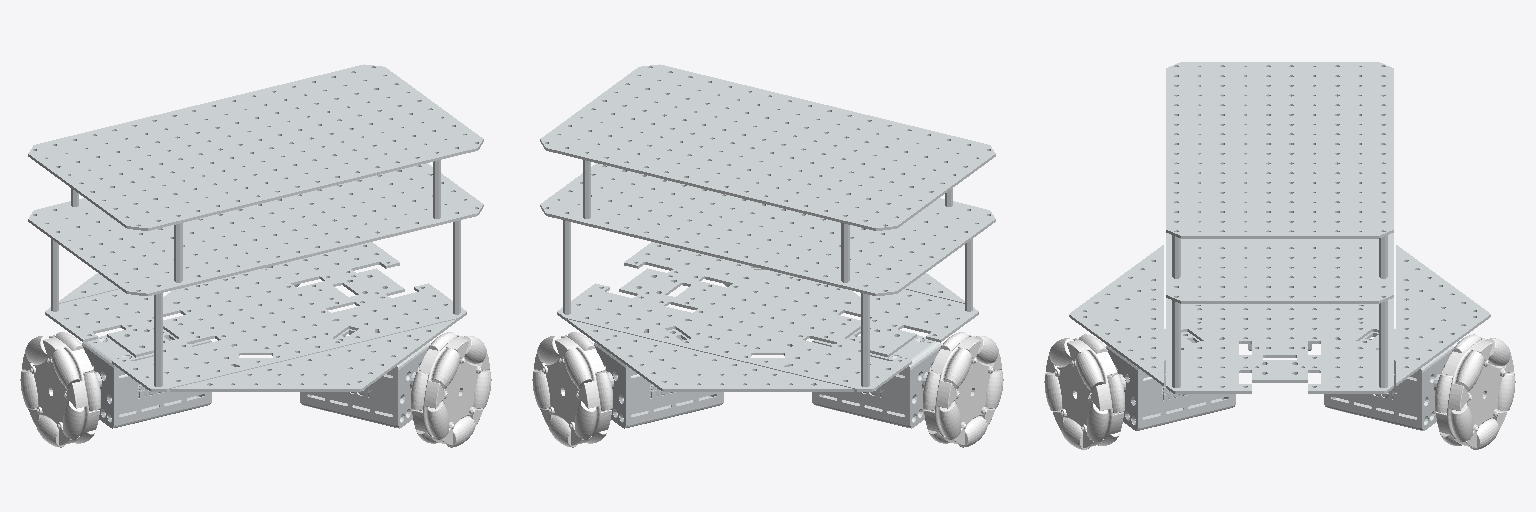
URDF robot description (zoo_three_wheel_omni):
<?xml version="1.0" encoding="utf-8"?>
<!-- This URDF was automatically created by SolidWorks to URDF Exporter! Originally created by [author] ([email redacted]) 
     Commit Version: 1.6.0-4-g7f85cfe  Build Version: 1.6.7995.38578
     For more information, please see http://wiki.ros.org/sw_urdf_exporter -->
<robot
  name="zoo_three_wheel_omni">
  <!-- <link name="dummy">

  </link>
  <joint name="dummy_joint" type="fixed">
     <parent link="dummy"/>
     <child link="base_link"/>
   </joint> -->
  <link
    name="base_link">
    <inertial>
      <origin
        xyz="-7.769E-05 -2.2214E-11 0.016319"
        rpy="0 0 0" />
      <mass
        value="1.8046" />
      <inertia
        ixx="0.010861"
        ixy="-1.8305E-12"
        ixz="-2.3461E-07"
        iyy="0.012596"
        iyz="-5.3682E-11"
        izz="0.014728" />
    </inertial>
    <visual>
      <origin
        xyz="0 0 0"
        rpy="0 0 0" />
      <geometry>
        <mesh
          filename="package://zoo_description/meshes/zoo_three_wheel_omni/base_link.STL" />
      </geometry>
      <material
        name="">
        <color
          rgba="0.89804 0.91765 0.92941 1" />
      </material>
    </visual>
    <collision>
      <origin
        xyz="0 0 0"
        rpy="0 0 0" />
      <geometry>
        <mesh
          filename="package://zoo_description/meshes/zoo_three_wheel_omni/base_link.STL" />
      </geometry>
    </collision>
  </link>
  <link
    name="wheel_lf_link">
    <inertial>
      <origin
        xyz="-5.7382E-06 -0.0079002 -8.7026E-06"
        rpy="0 0 0" />
      <mass
        value="0.072873" />
      <inertia
        ixx="2.7696E-05"
        ixy="5.9523E-10"
        ixz="4.7581E-09"
        iyy="4.9411E-05"
        iyz="-2.5333E-10"
        izz="2.7703E-05" />
    </inertial>
    <visual>
      <origin
        xyz="0 0 0"
        rpy="0 0 0" />
      <geometry>
        <mesh
          filename="package://zoo_description/meshes/zoo_three_wheel_omni/wheel_lf_link.STL" />
      </geometry>
      <material
        name="">
        <color
          rgba="1 1 1 1" />
      </material>
    </visual>
    <collision>
      <origin
        xyz="0 0 0"
        rpy="0 0 0" />
      <geometry>
        <mesh
          filename="package://zoo_description/meshes/zoo_three_wheel_omni/wheel_lf_link.STL" />
      </geometry>
    </collision>
  </link>
  <joint
    name="wheel_lf_joint"
    type="continuous">
    <origin
      xyz="0.077173 0.13379 -0.02"
      rpy="0 0 -0.5236" />
    <parent
      link="base_link" />
    <child
      link="wheel_lf_link" />
    <axis
      xyz="0 1 0" />
  </joint>
  <link
    name="wheel_rl_link">
    <inertial>
      <origin
        xyz="5.7915E-06 0.0079002 -8.6846E-06"
        rpy="0 0 0" />
      <mass
        value="0.072874" />
      <inertia
        ixx="2.7696E-05"
        ixy="5.4302E-10"
        ixz="-4.7793E-09"
        iyy="4.9411E-05"
        iyz="2.3616E-10"
        izz="2.7703E-05" />
    </inertial>
    <visual>
      <origin
        xyz="0 0 0"
        rpy="0 0 0" />
      <geometry>
        <mesh
          filename="package://zoo_description/meshes/zoo_three_wheel_omni/wheel_rl_link.STL" />
      </geometry>
      <material
        name="">
        <color
          rgba="1 1 1 1" />
      </material>
    </visual>
    <collision>
      <origin
        xyz="0 0 0"
        rpy="0 0 0" />
      <geometry>
        <mesh
          filename="package://zoo_description/meshes/zoo_three_wheel_omni/wheel_rl_link.STL" />
      </geometry>
    </collision>
  </link>
  <joint
    name="wheel_rl_joint"
    type="continuous">
    <origin
      xyz="0.077173 -0.13379 -0.02"
      rpy="0 0 0.5236" />
    <parent
      link="base_link" />
    <child
      link="wheel_rl_link" />
    <axis
      xyz="0 -1 0" />
  </joint>
  <link
    name="wheel_b_link">
    <inertial>
      <origin
        xyz="0.0079006 -5.6406E-06 -8.6364E-06"
        rpy="0 0 0" />
      <mass
        value="0.072873" />
      <inertia
        ixx="4.9411E-05"
        ixy="-5.9086E-10"
        ixz="1.9963E-10"
        iyy="2.7696E-05"
        iyz="4.8457E-09"
        izz="2.7703E-05" />
    </inertial>
    <visual>
      <origin
        xyz="0 0 0"
        rpy="0 0 0" />
      <geometry>
        <mesh
          filename="package://zoo_description/meshes/zoo_three_wheel_omni/wheel_b_link.STL" />
      </geometry>
      <material
        name="">
        <color
          rgba="1 1 1 1" />
      </material>
    </visual>
    <collision>
      <origin
        xyz="0 0 0"
        rpy="0 0 0" />
      <geometry>
        <mesh
          filename="package://zoo_description/meshes/zoo_three_wheel_omni/wheel_b_link.STL" />
      </geometry>
    </collision>
  </link>
  <joint
    name="wheel_b_joint"
    type="continuous">
    <origin
      xyz="-0.15455 0 -0.02"
      rpy="0 0 0" />
    <parent
      link="base_link" />
    <child
      link="wheel_b_link" />
    <axis
      xyz="-1 0 0" />
  </joint>
</robot>

--- Render facts (derived) ---
3 views of the same robot in one strip: view 1: azimuth 30°, elevation 25°; view 2: azimuth 150°, elevation 25°; view 3: azimuth 270°, elevation 25° (orthographic).
Robot: zoo_three_wheel_omni — 4 links, 3 joints (3 continuous); root link base_link; default pose: all joints at 0.
Links seen in each view (by area): view 1: base_link, wheel_rl_link, wheel_b_link; view 2: base_link, wheel_b_link, wheel_lf_link; view 3: base_link, wheel_lf_link, wheel_rl_link.
Boxes of the visible links, left/top/right/bottom form: base_link: left=28, top=64, right=483, bottom=428; wheel_rl_link: left=411, top=332, right=491, bottom=447; wheel_b_link: left=20, top=332, right=100, bottom=447; base_link: left=540, top=64, right=995, bottom=428; wheel_b_link: left=923, top=332, right=1003, bottom=447; wheel_lf_link: left=532, top=332, right=612, bottom=447; base_link: left=1069, top=62, right=1490, bottom=430; wheel_lf_link: left=1435, top=334, right=1515, bottom=449; wheel_rl_link: left=1044, top=334, right=1124, bottom=449.
Bounding box of the posed robot: 0.2941 × 0.3076 × 0.1783 m (x, y, z).
Meshes: 4 distinct files referenced, 4 mesh visuals loaded (4 binary STL).
